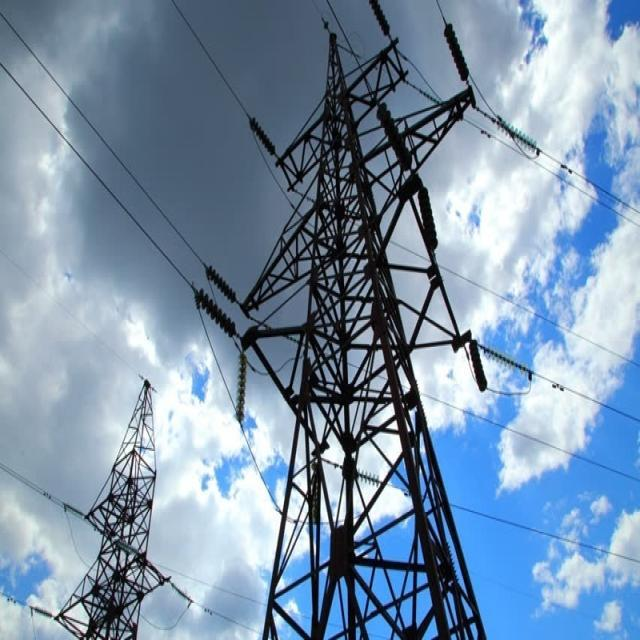non-critical vegetation: (261, 42, 505, 636), (58, 376, 180, 632)
